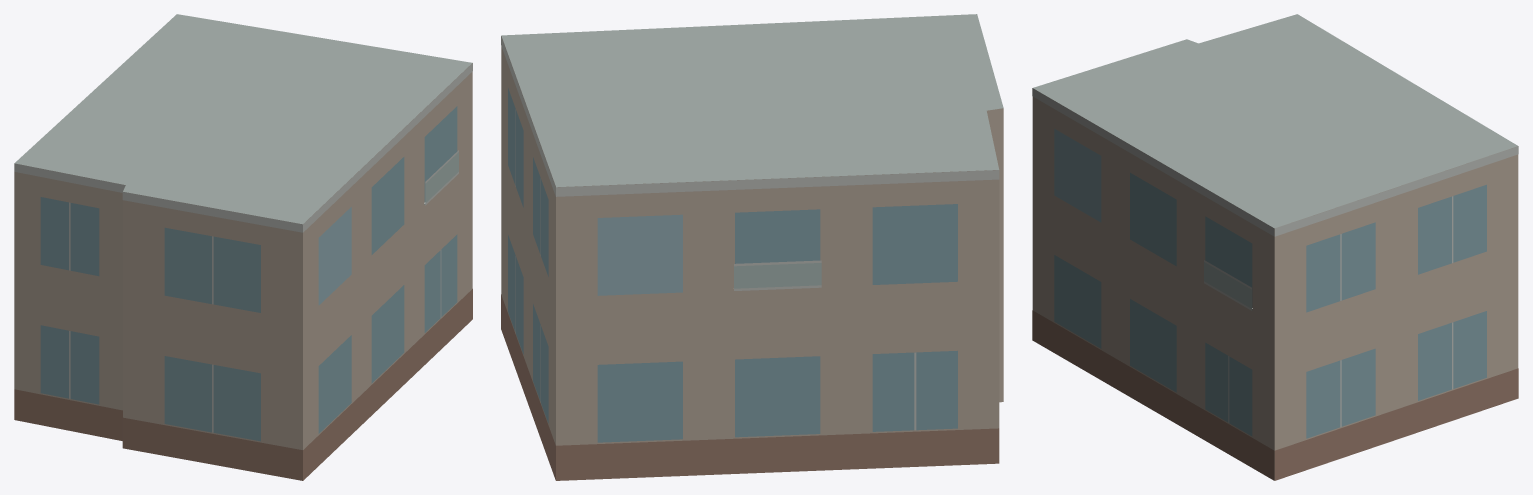
Rendered from survey-upis-32680359.glb.
The picture shows the model from 3 angles, left to right: view 1: azimuth 30°, elevation 25°; view 2: azimuth 150°, elevation 25°; view 3: azimuth 270°, elevation 25°; orthographic projection. The views are drawn at different scales.
Parts seen in each view (by area): view 1: survey-upis-32680359.tmp; view 2: survey-upis-32680359.tmp; view 3: survey-upis-32680359.tmp.
Part boxes in pixels (x1,y1,x2,y2): survey-upis-32680359.tmp: [14, 14, 472, 480]; survey-upis-32680359.tmp: [501, 14, 1003, 480]; survey-upis-32680359.tmp: [1032, 14, 1518, 480].
Bounding box in the file's own units: 13.49 × 7.4 × 12.92.
